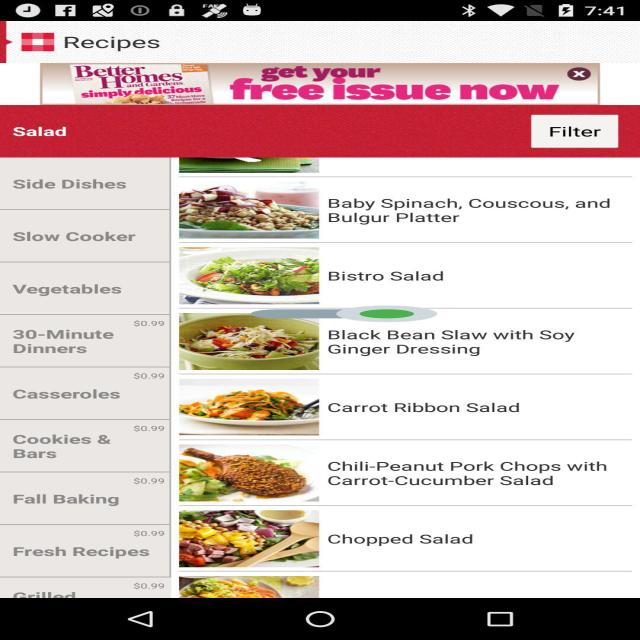social proof: (251, 298, 437, 329)
